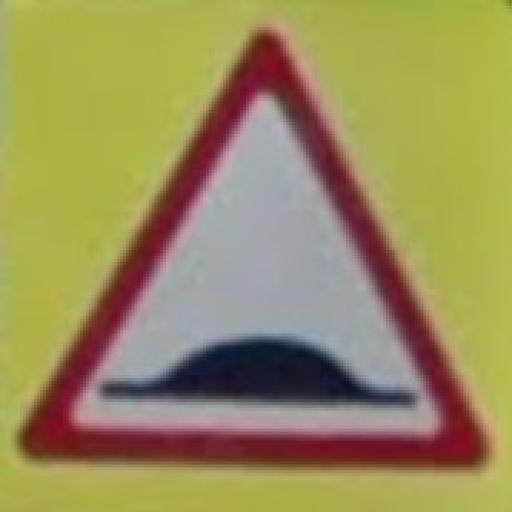traffic_sign: (15, 19, 502, 480)
